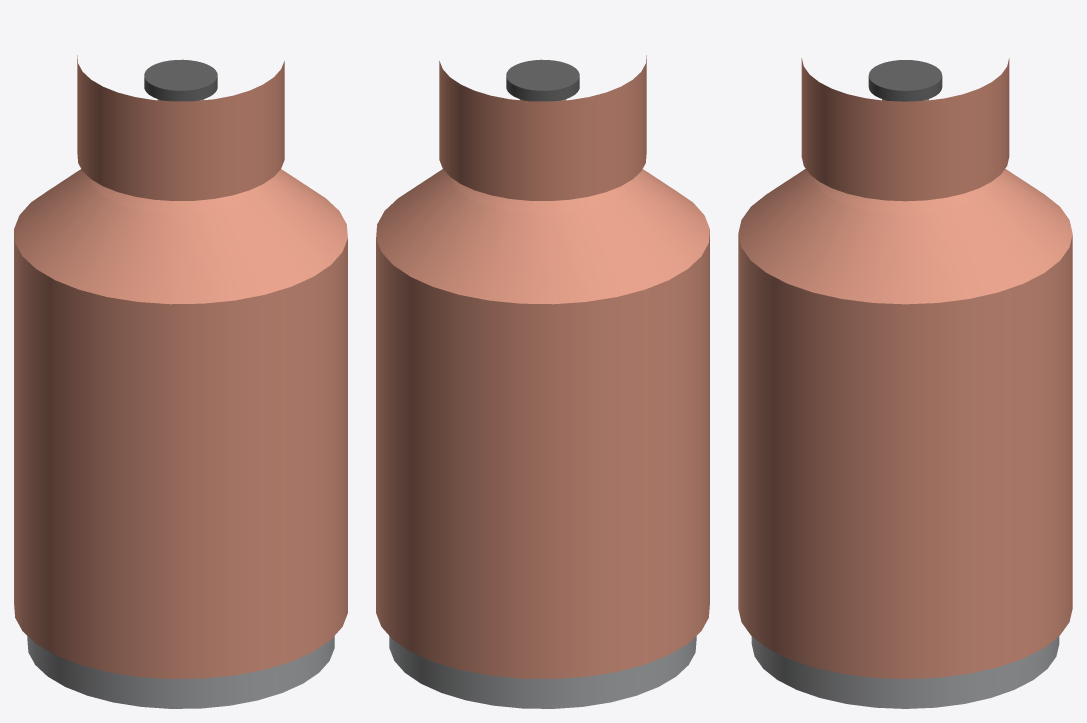
Rendered from gasbottle.glb.
3 views of the same model, side by side, from view 1: azimuth 30°, elevation 25°; view 2: azimuth 150°, elevation 25°; view 3: azimuth 270°, elevation 25° (orthographic).
Size of the model in its own units: 256 by 495 by 256.
